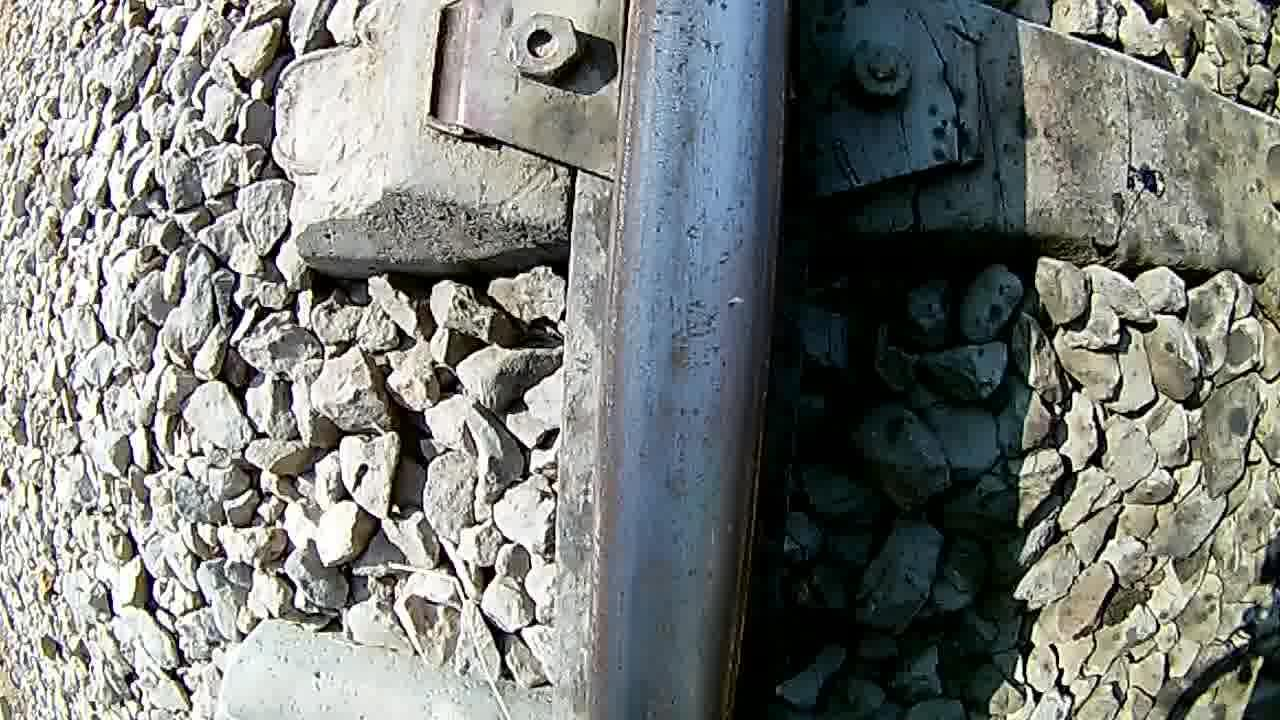crack: (604, 0, 780, 720)
